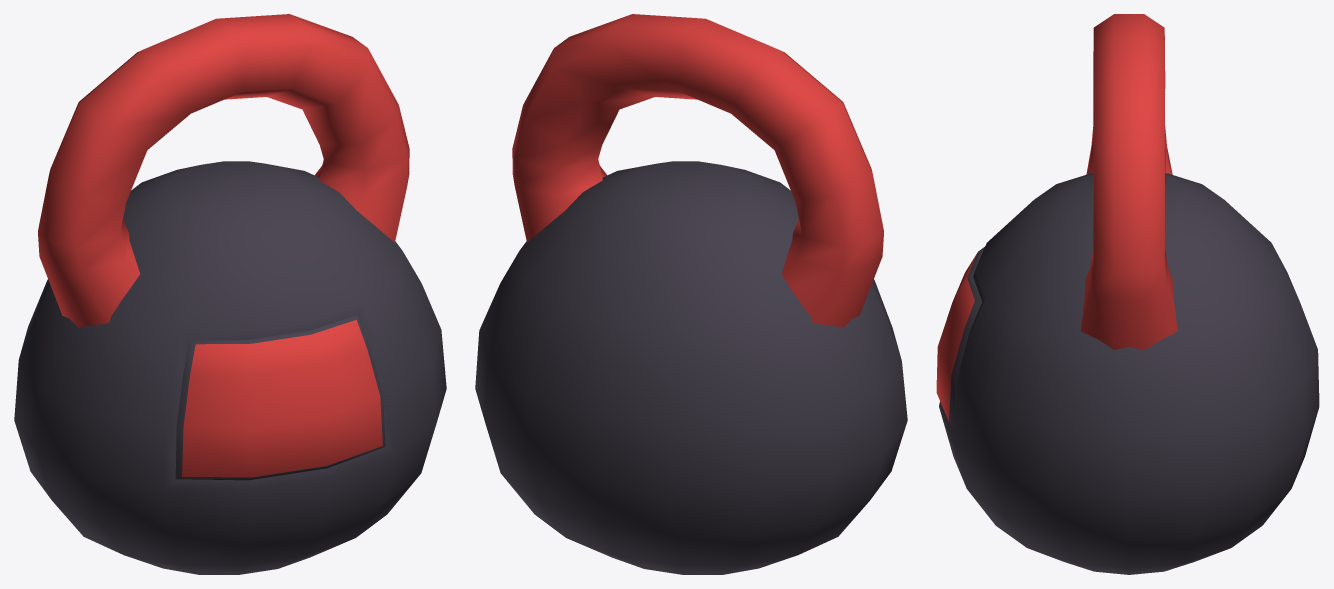
Rendered from Kettlebell_v01.fbx.
3 views of the same model, side by side, from view 1: azimuth 30°, elevation 25°; view 2: azimuth 150°, elevation 25°; view 3: azimuth 270°, elevation 25° (orthographic). The views are drawn at different scales.
Visible parts, largest first — view 1: Kettlebell_v01; view 2: Kettlebell_v01; view 3: Kettlebell_v01.
Boxes of the visible parts, left/top/right/bottom form: Kettlebell_v01: left=14, top=14, right=446, bottom=574; Kettlebell_v01: left=475, top=14, right=907, bottom=574; Kettlebell_v01: left=936, top=14, right=1319, bottom=574.
Size of the model in its own units: 0.2447 by 0.3183 by 0.2183.
Materials: 1 (1 with a texture image).
